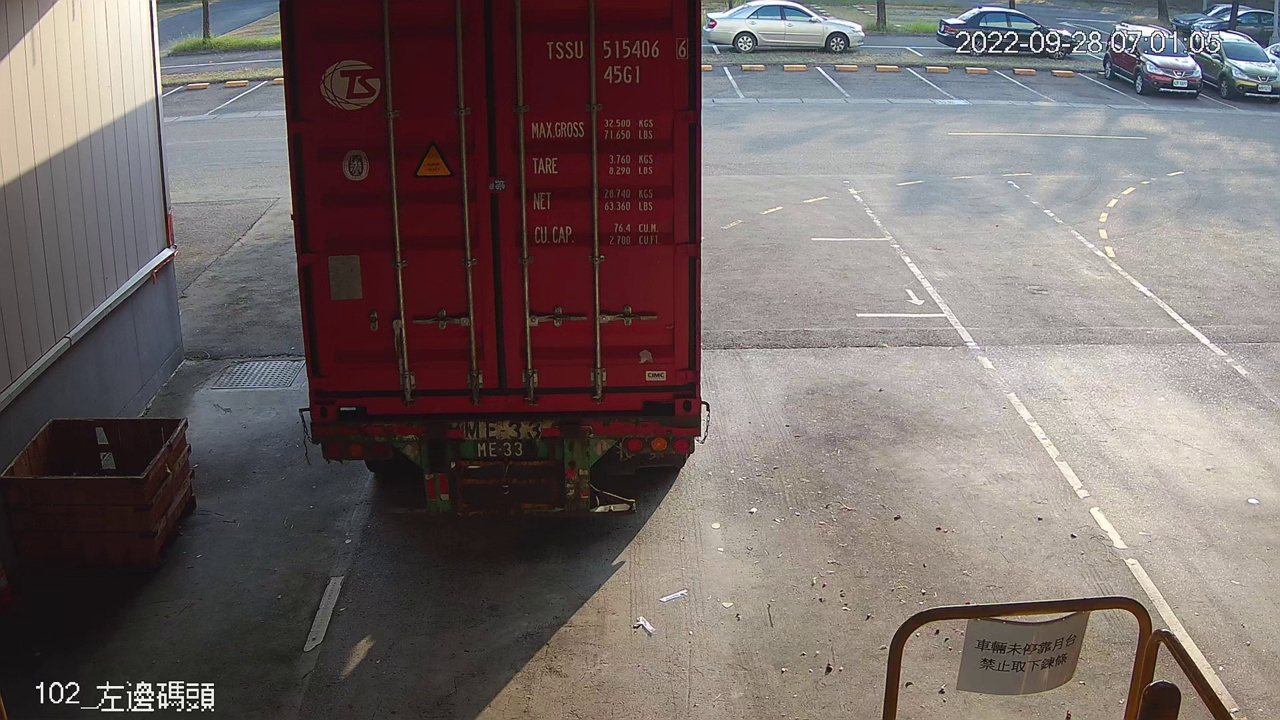container: (539, 33, 694, 92)
